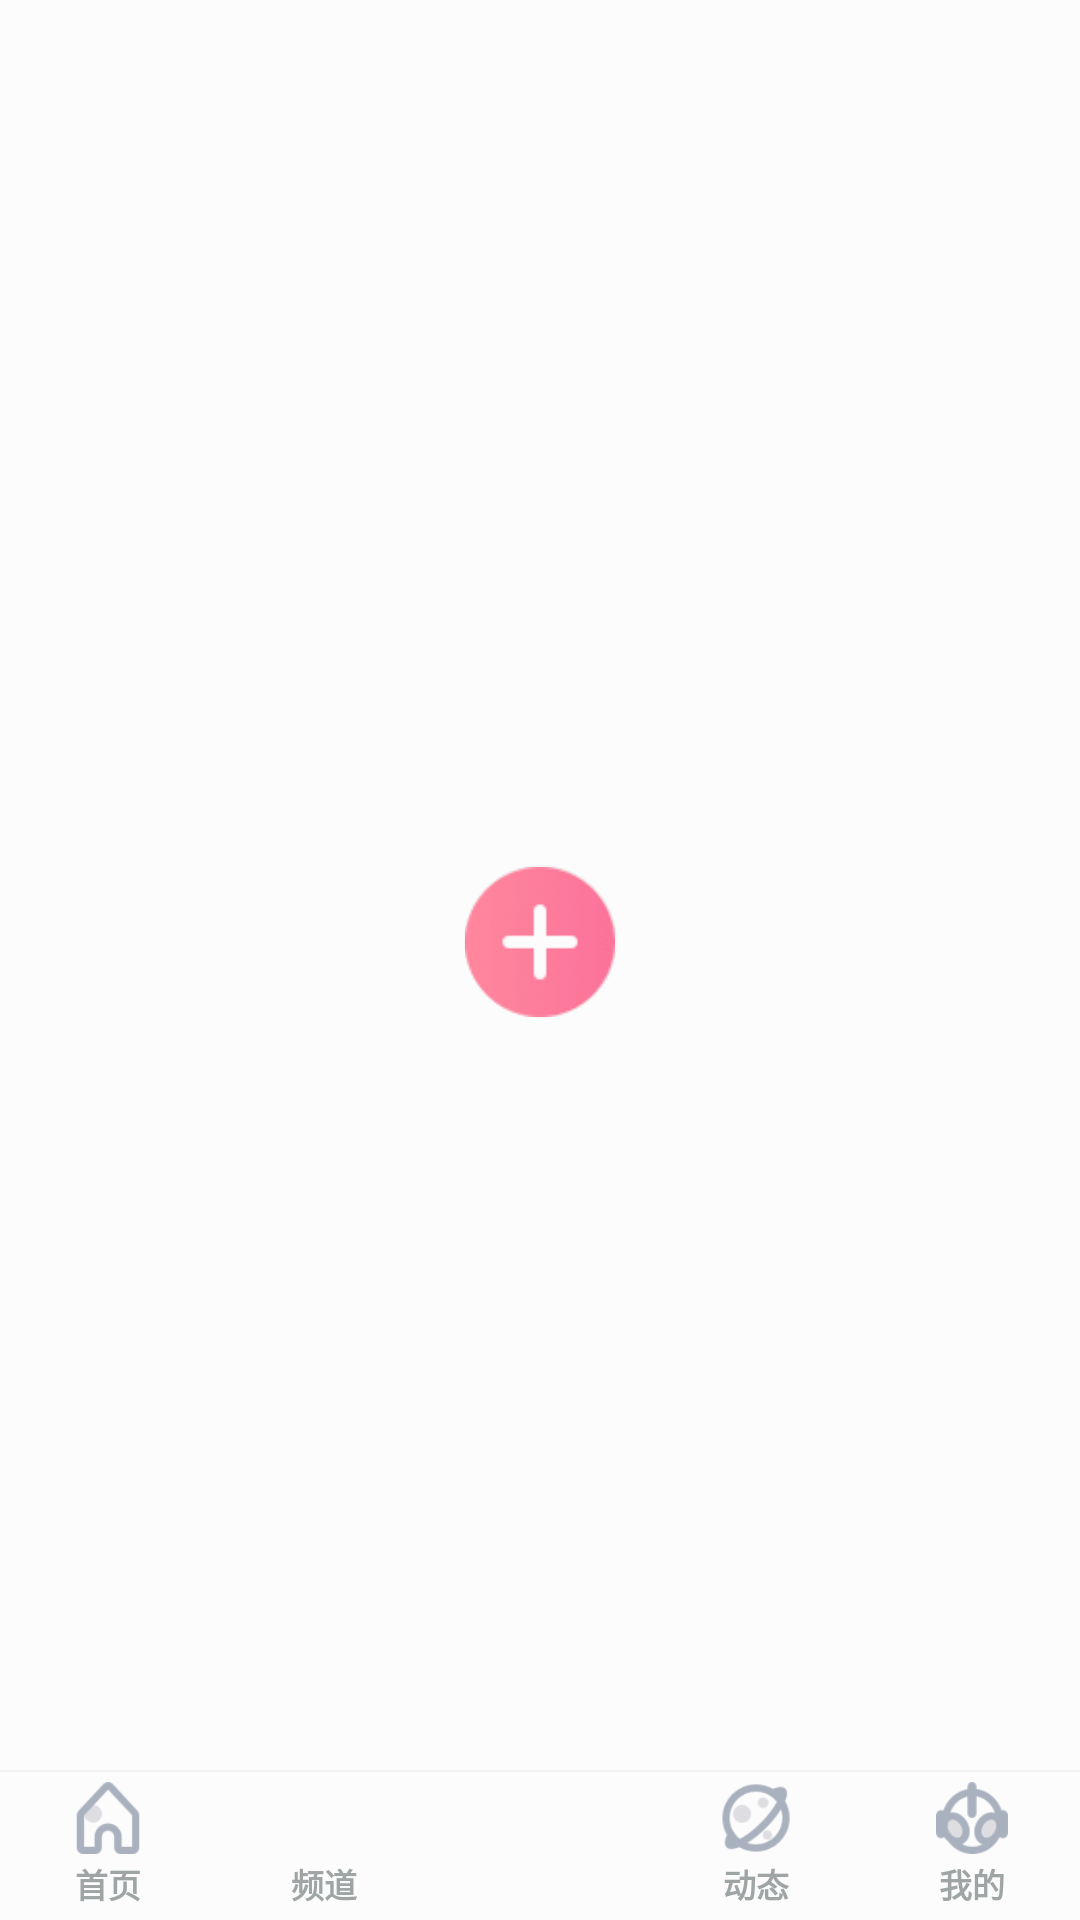

Where icons sit on this 1080w x 1920h app screen, as (x1, y1, x2, y2):
live start: (465, 867, 615, 1017)
